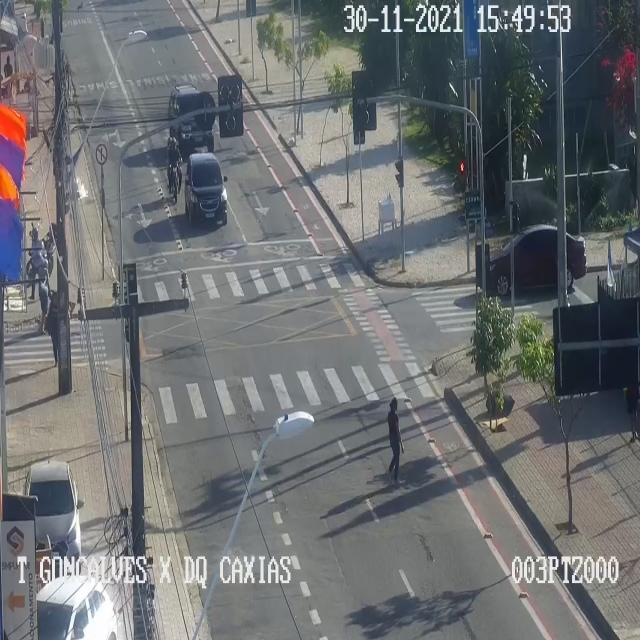Car: (489, 224, 586, 295), (24, 462, 81, 572), (36, 575, 116, 639), (184, 152, 226, 223), (169, 85, 213, 151)
Motorcycle: (26, 229, 56, 282), (166, 136, 182, 202)
